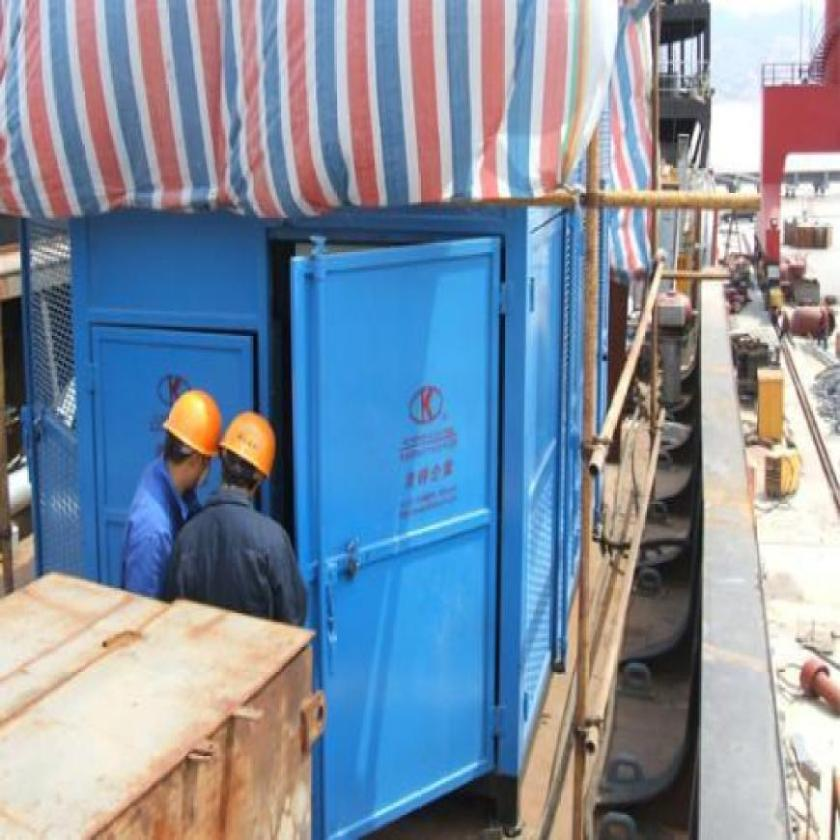Con_casco: (162, 386, 222, 498), (220, 409, 280, 508)
